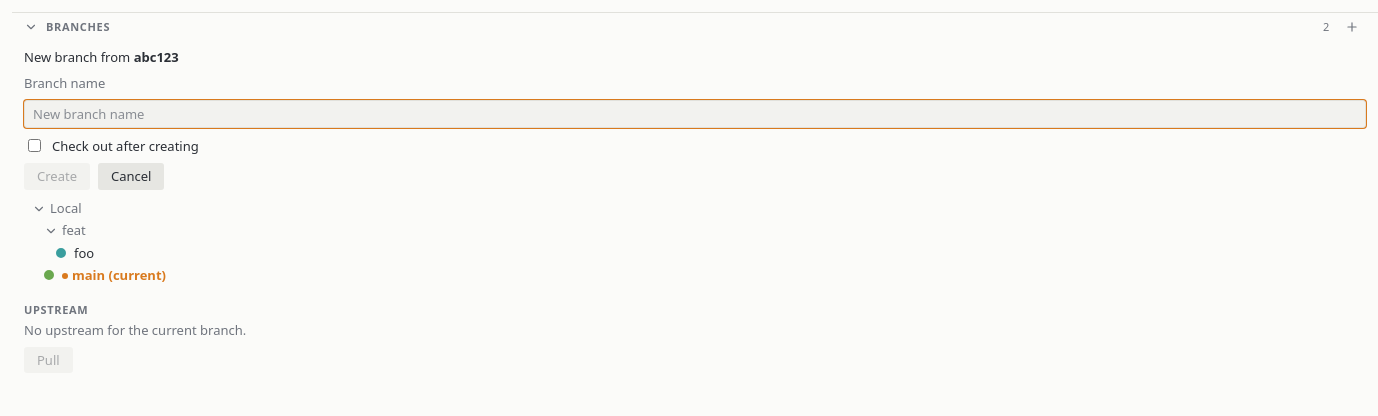
it: BranchTree — local branches › shows a failed create-branch's message next to the draft form and keeps the entered name
Type "feature" into the field with placeholder "New branch name" at (695, 114), box [24, 100, 1366, 128]
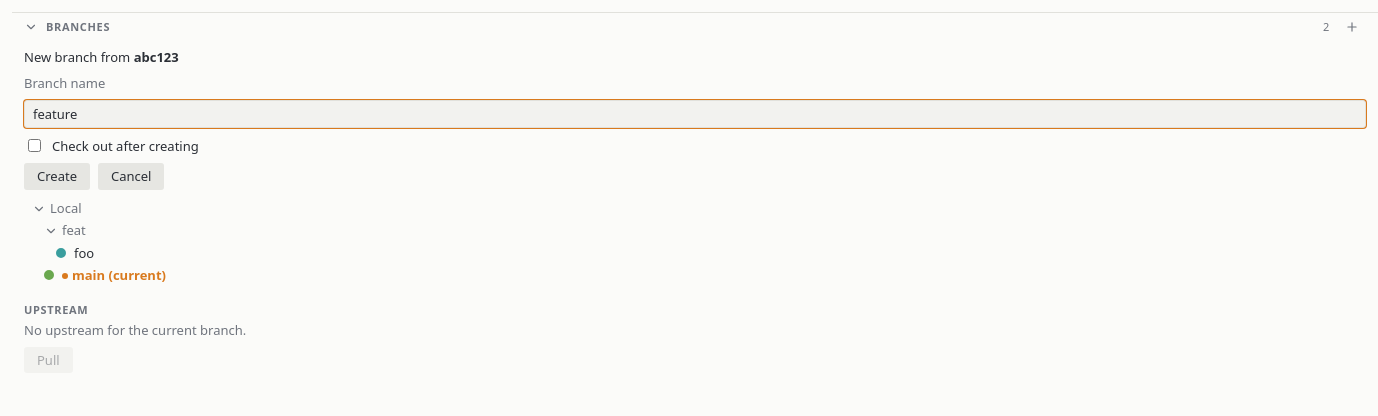
Click the button "Create" at (57, 176), box [24, 163, 90, 190]
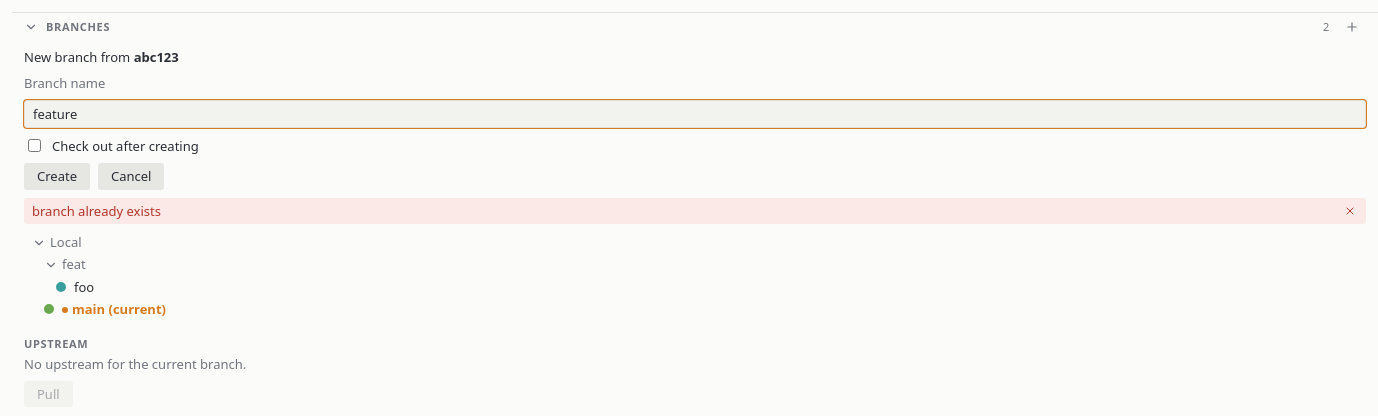
Expected: the message reads "branch already exists", [32, 202, 161, 220]
